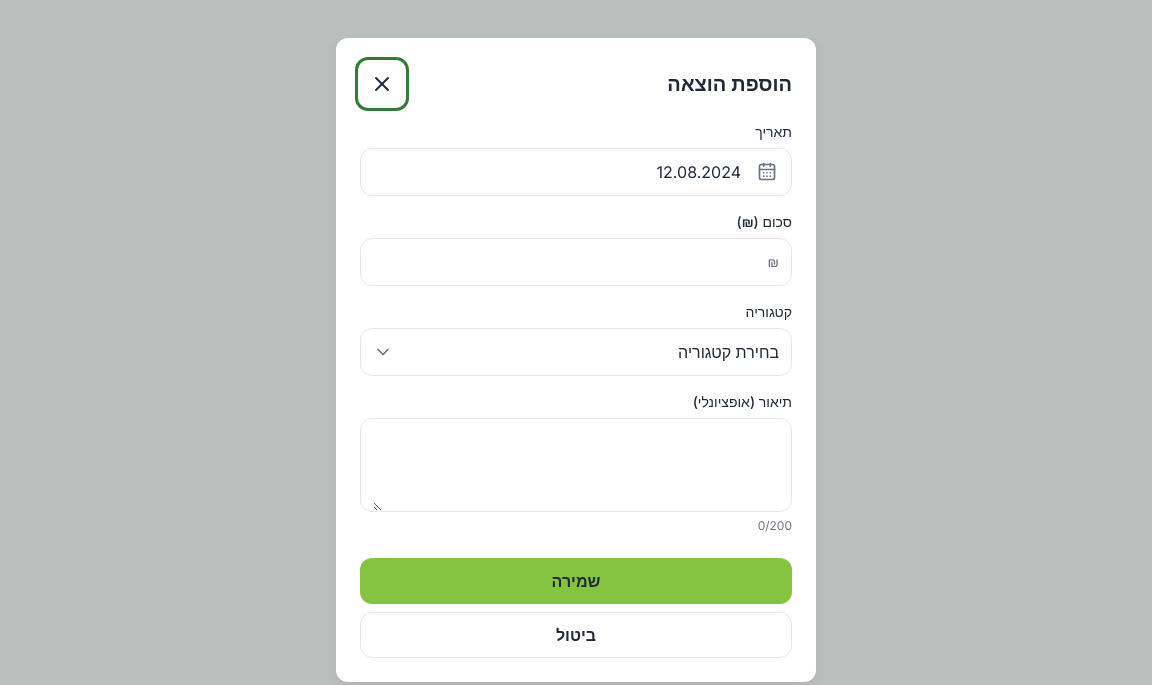
Test: ExpenseFormDialog › shows errors for a future date and too many decimals
Replace the text in the field labelled "תאריך" with "13.08.2024" at point(557, 172), box [373, 150, 741, 194]
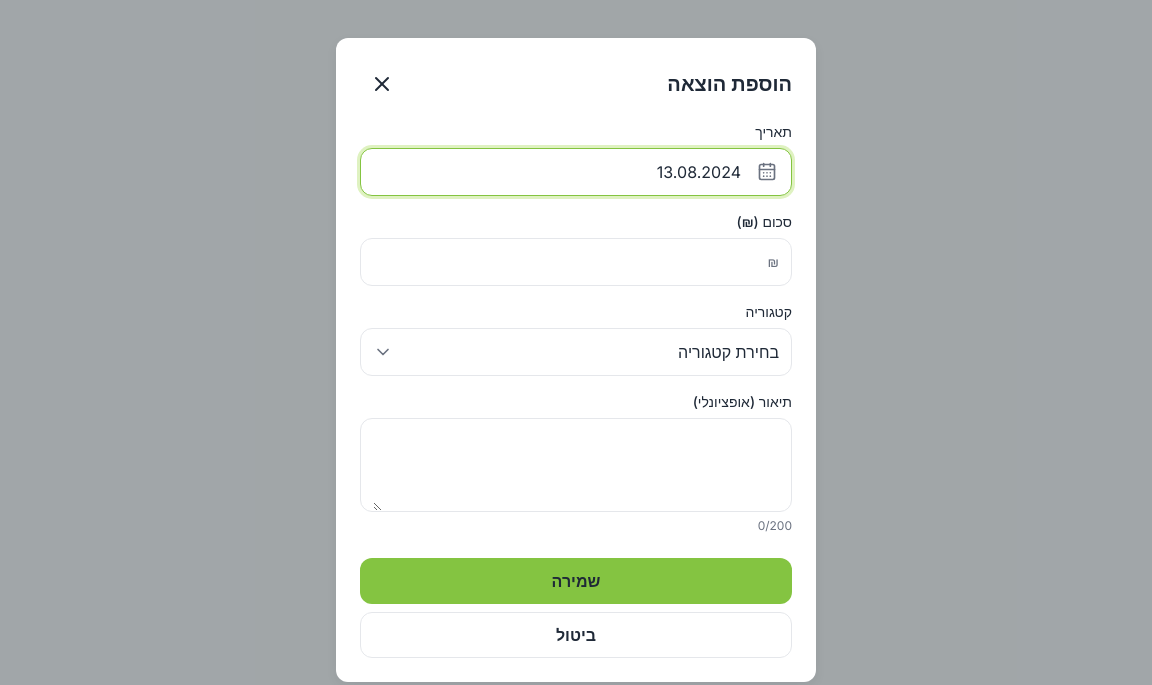
Type "10.555" into the field labelled "סכום (₪)" at point(566, 262), box [373, 240, 760, 284]
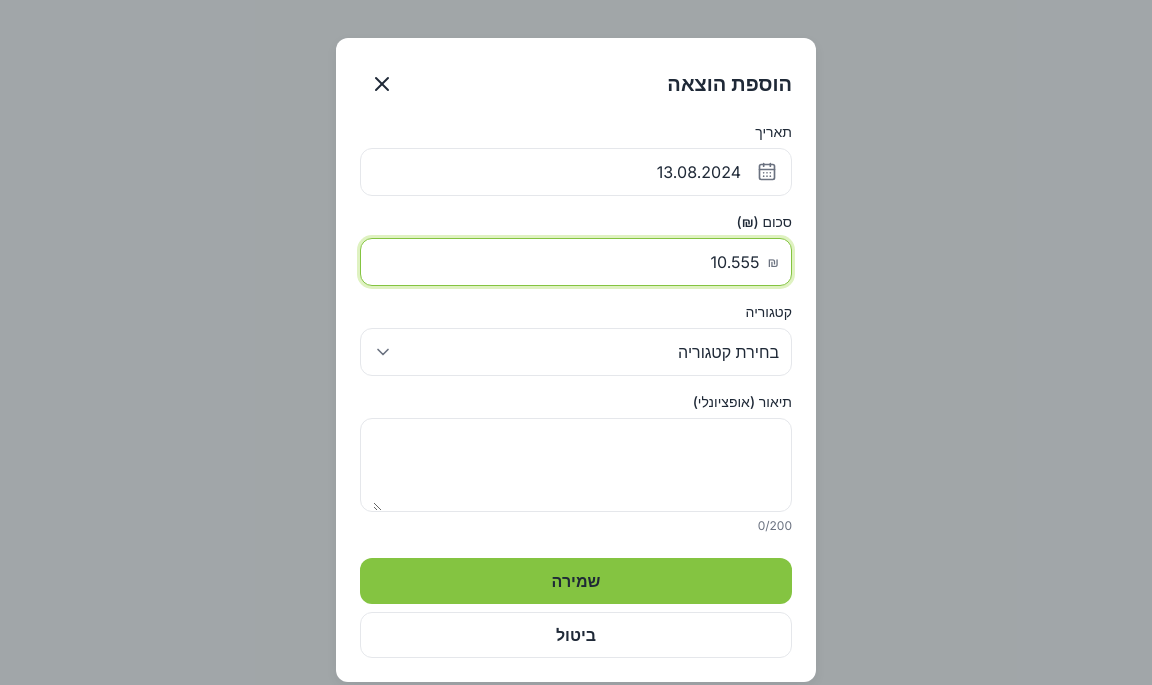
Click the button "שמירה" at point(576, 581), box [360, 558, 792, 604]
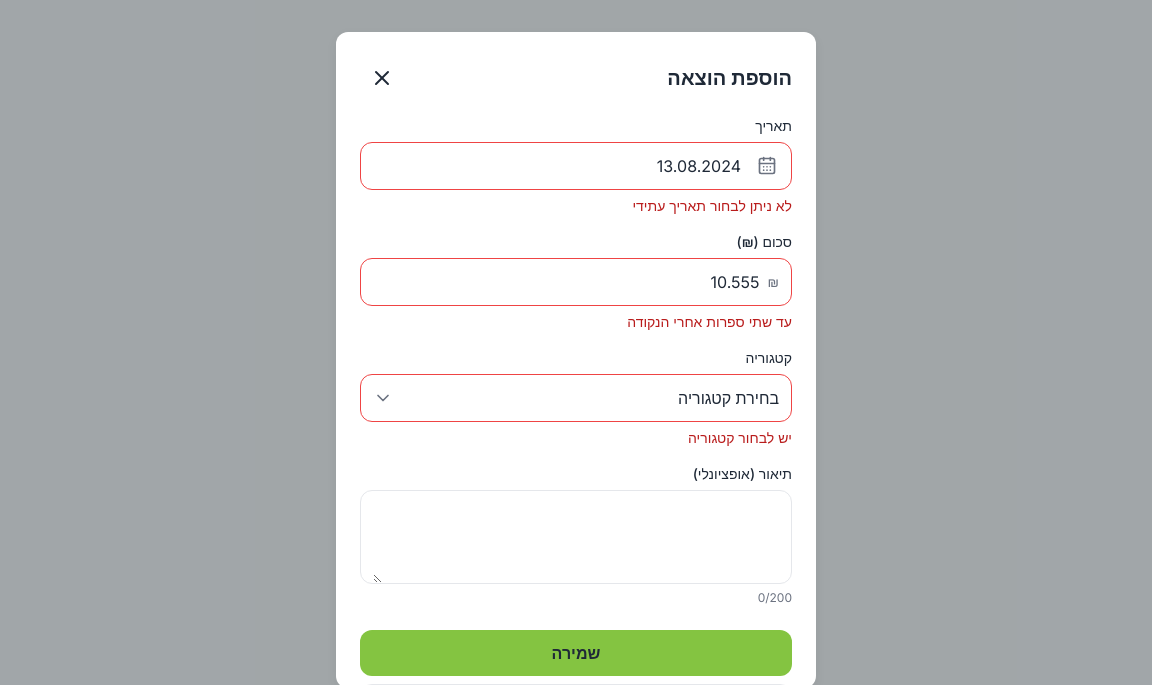
expect the text "לא ניתן לבחור תאריך עתידי" is shown: met, box [632, 197, 792, 214]
expect the text "עד שתי ספרות אחרי הנקודה" is shown: met, box [627, 313, 792, 330]
